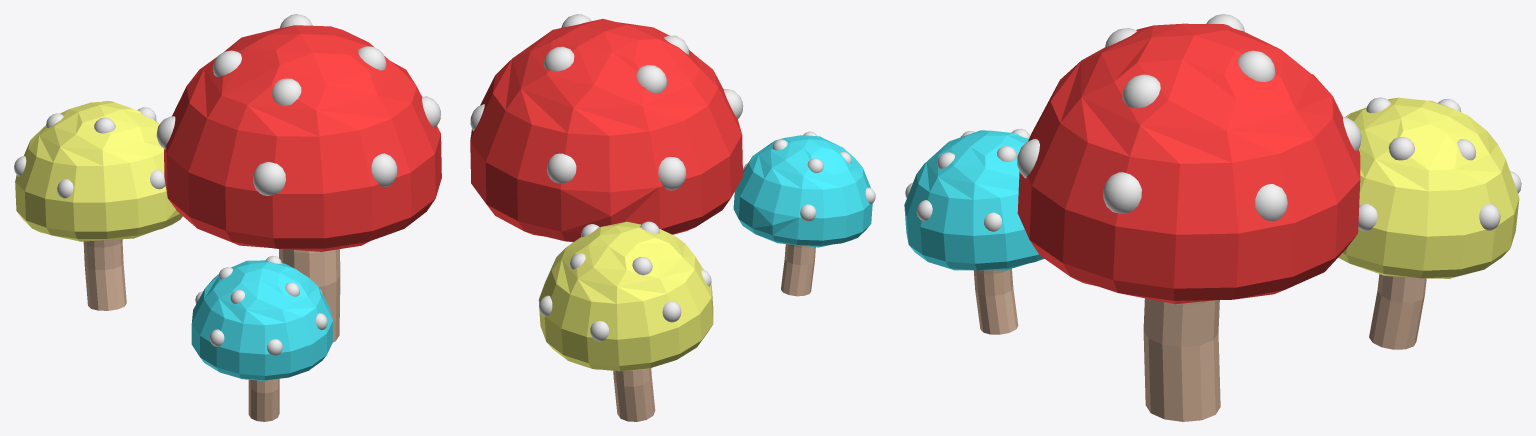
The model's file is 01h5sEA40Hp.glb.
3 renders of one model, left to right at view 1: azimuth 30°, elevation 25°; view 2: azimuth 150°, elevation 25°; view 3: azimuth 270°, elevation 25°, orthographic. The views are drawn at different scales.
Visible parts, largest first — view 1: Sphere001, Sphere023, Sphere012, Sphere002, Cylinder001; view 2: Sphere001, Sphere023, Sphere012, Sphere002, Cylinder001; view 3: Sphere001, Sphere023, Cylinder001, Sphere012, Sphere002.
Part boxes in pixels (x1,y1,x2,y2): Sphere001: [164, 25, 441, 251]; Sphere023: [15, 101, 182, 241]; Sphere012: [191, 260, 332, 380]; Sphere002: [14, 14, 440, 355]; Cylinder001: [83, 239, 340, 421]; Sphere001: [470, 19, 742, 242]; Sphere023: [538, 221, 713, 371]; Sphere012: [733, 135, 872, 247]; Sphere002: [470, 14, 875, 341]; Cylinder001: [613, 244, 815, 421]; Sphere001: [1017, 23, 1360, 304]; Sphere023: [1338, 97, 1519, 278]; Cylinder001: [973, 268, 1426, 421]; Sphere012: [904, 130, 1044, 270]; Sphere002: [905, 14, 1521, 231].
Bounding box in the file's own units: 1.06 × 1 × 1.49.
